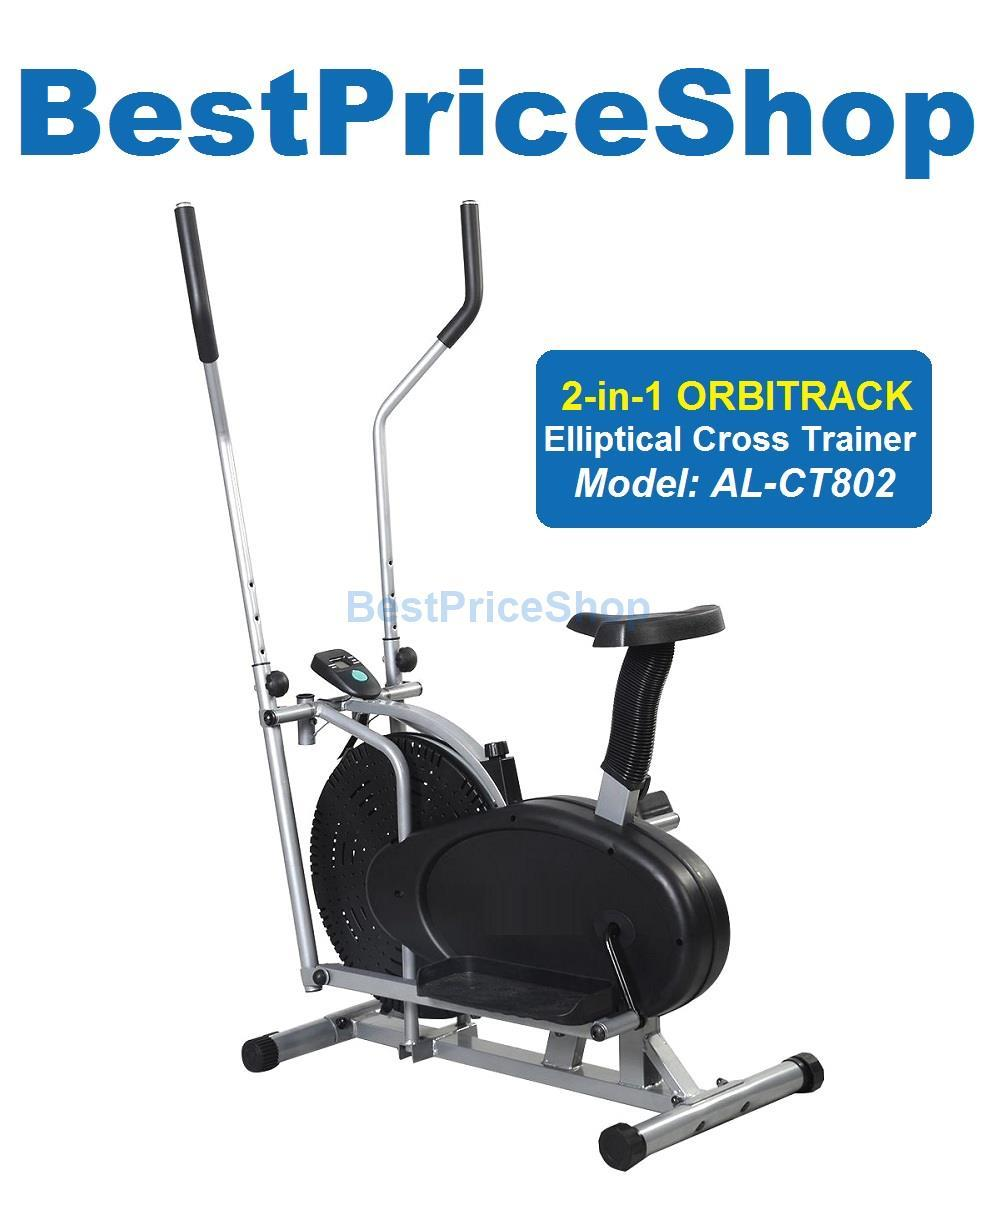gym_bike: (128, 176, 839, 1169)
